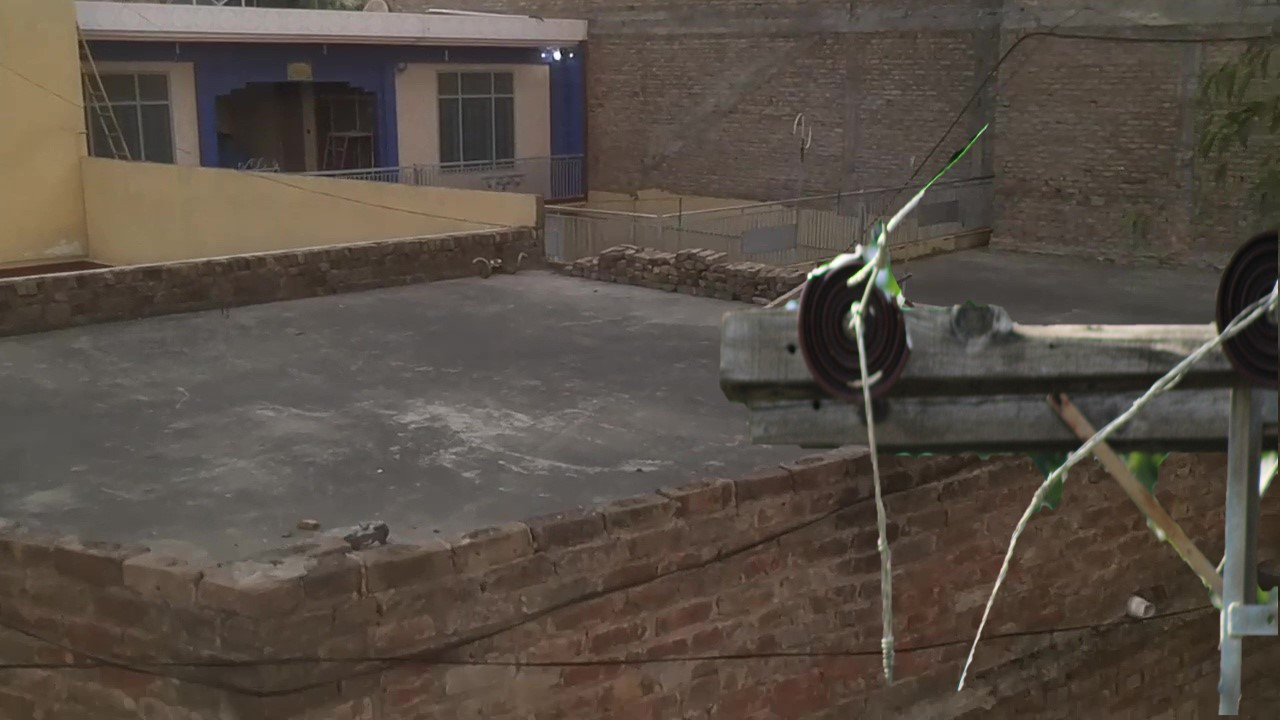defect_disc: (796, 243, 918, 399)
